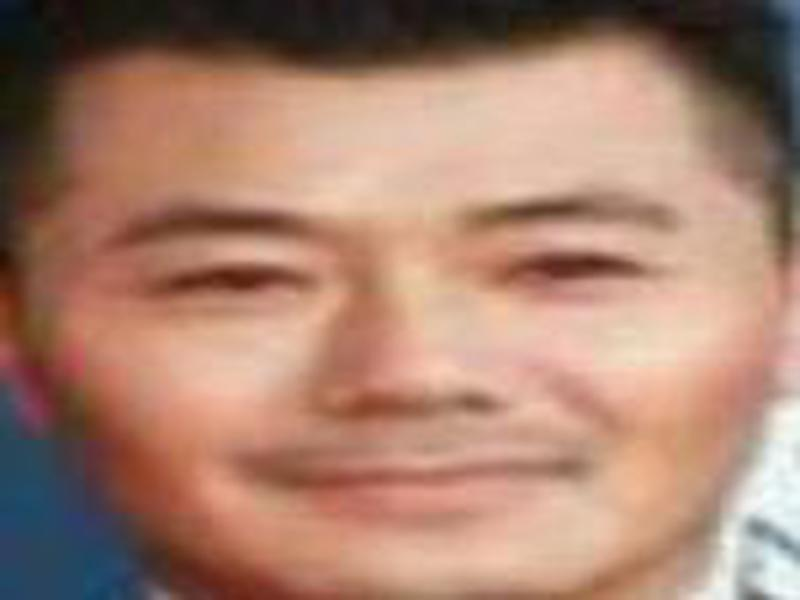without_mask: (36, 46, 761, 600)
